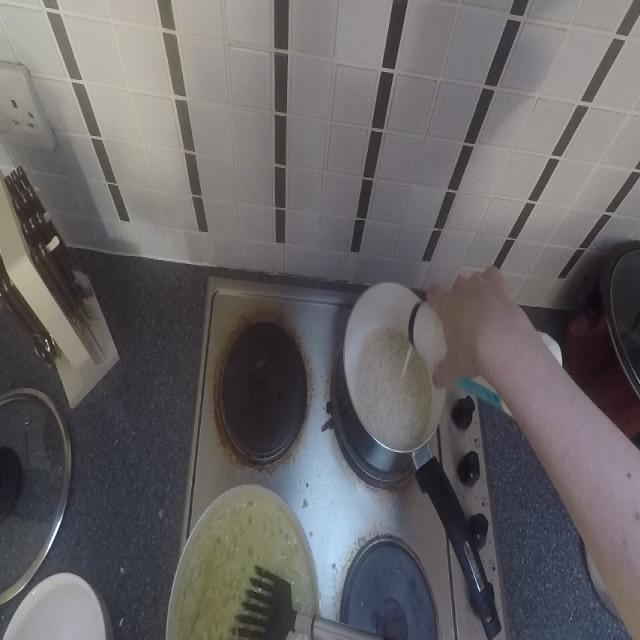hob: (210, 281, 321, 486)
lid: (0, 385, 70, 609)
pan: (336, 277, 498, 640)
right hand: (427, 242, 542, 424)
spatula: (241, 561, 382, 640)
